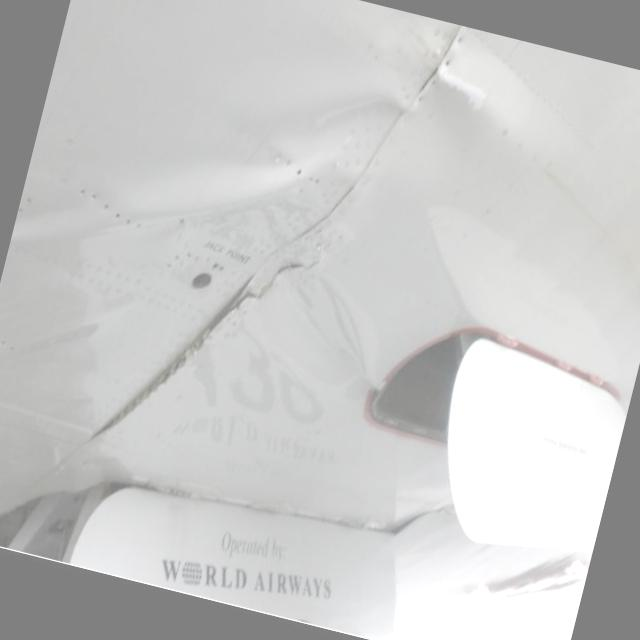crack: (230, 232, 328, 332)
dent: (9, 3, 409, 329)
